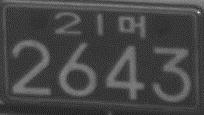1: (89, 13, 111, 36)
2: (11, 37, 51, 97), (53, 10, 83, 35)
3: (150, 45, 192, 105)
4: (105, 44, 145, 100)
6: (58, 41, 97, 98)
머: (117, 14, 146, 39)
